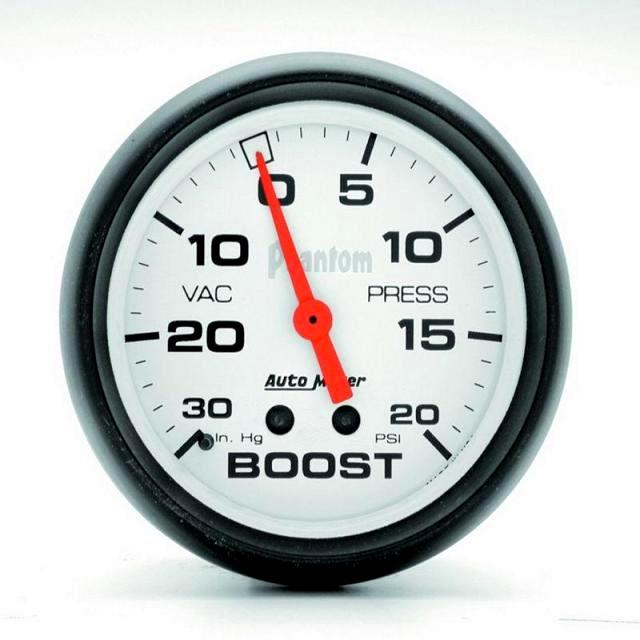Needle_Tip: (225, 127, 291, 201)
Needle_base: (277, 297, 342, 342)
max_value: (375, 390, 461, 450)
min_value: (158, 372, 255, 440)
